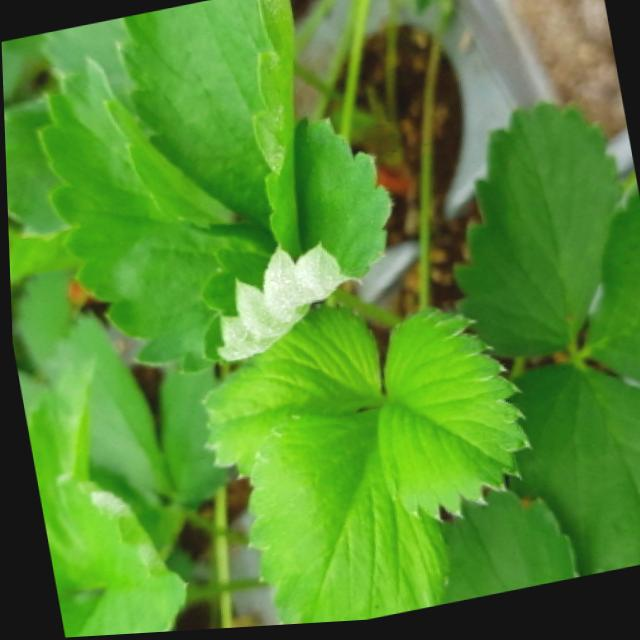Powdery Mildew Leaf: (195, 118, 393, 368), (115, 0, 300, 266), (48, 469, 183, 637)
